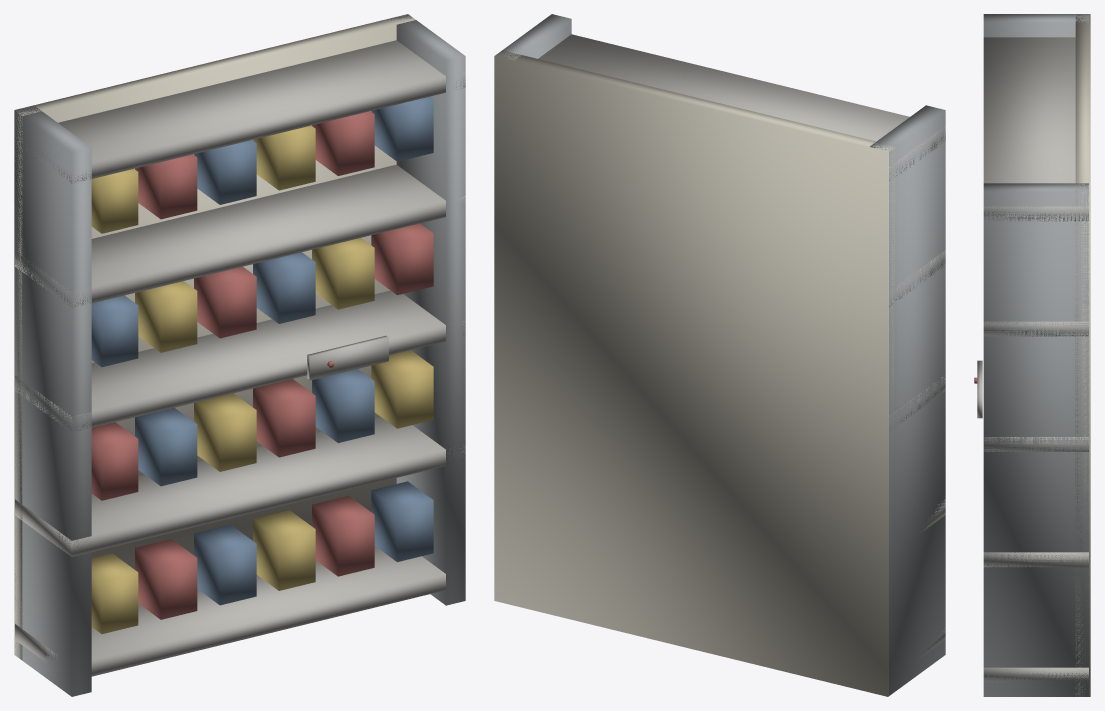
Rendered from pharmacy_shelf.glb.
3 renders of one model, left to right at view 1: azimuth 30°, elevation 25°; view 2: azimuth 150°, elevation 25°; view 3: azimuth 270°, elevation 25°, orthographic. The views are drawn at different scales.
Parts seen in each view (by area): view 1: world; view 2: world; view 3: world.
Boxes of the visible parts, bbox=[...] form: world: bbox=[14, 14, 465, 696]; world: bbox=[494, 14, 945, 696]; world: bbox=[974, 14, 1090, 696].
Bounding box in the file's own units: 1.4 × 1.85 × 0.386.
